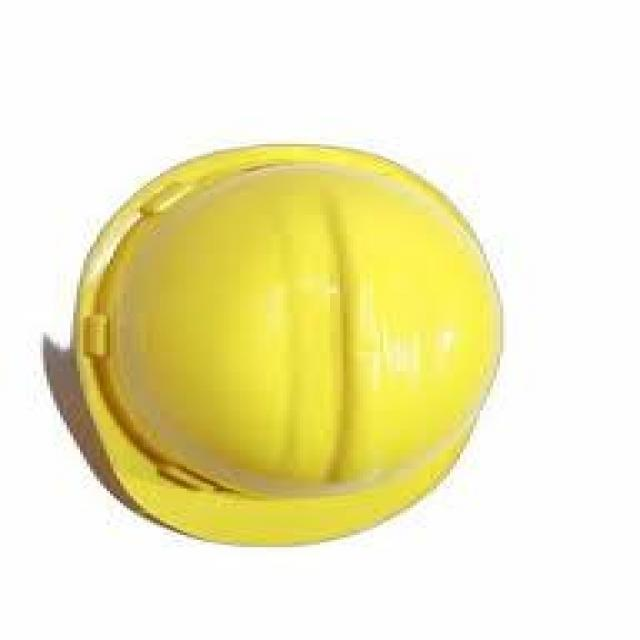helmet: (69, 138, 506, 551)
